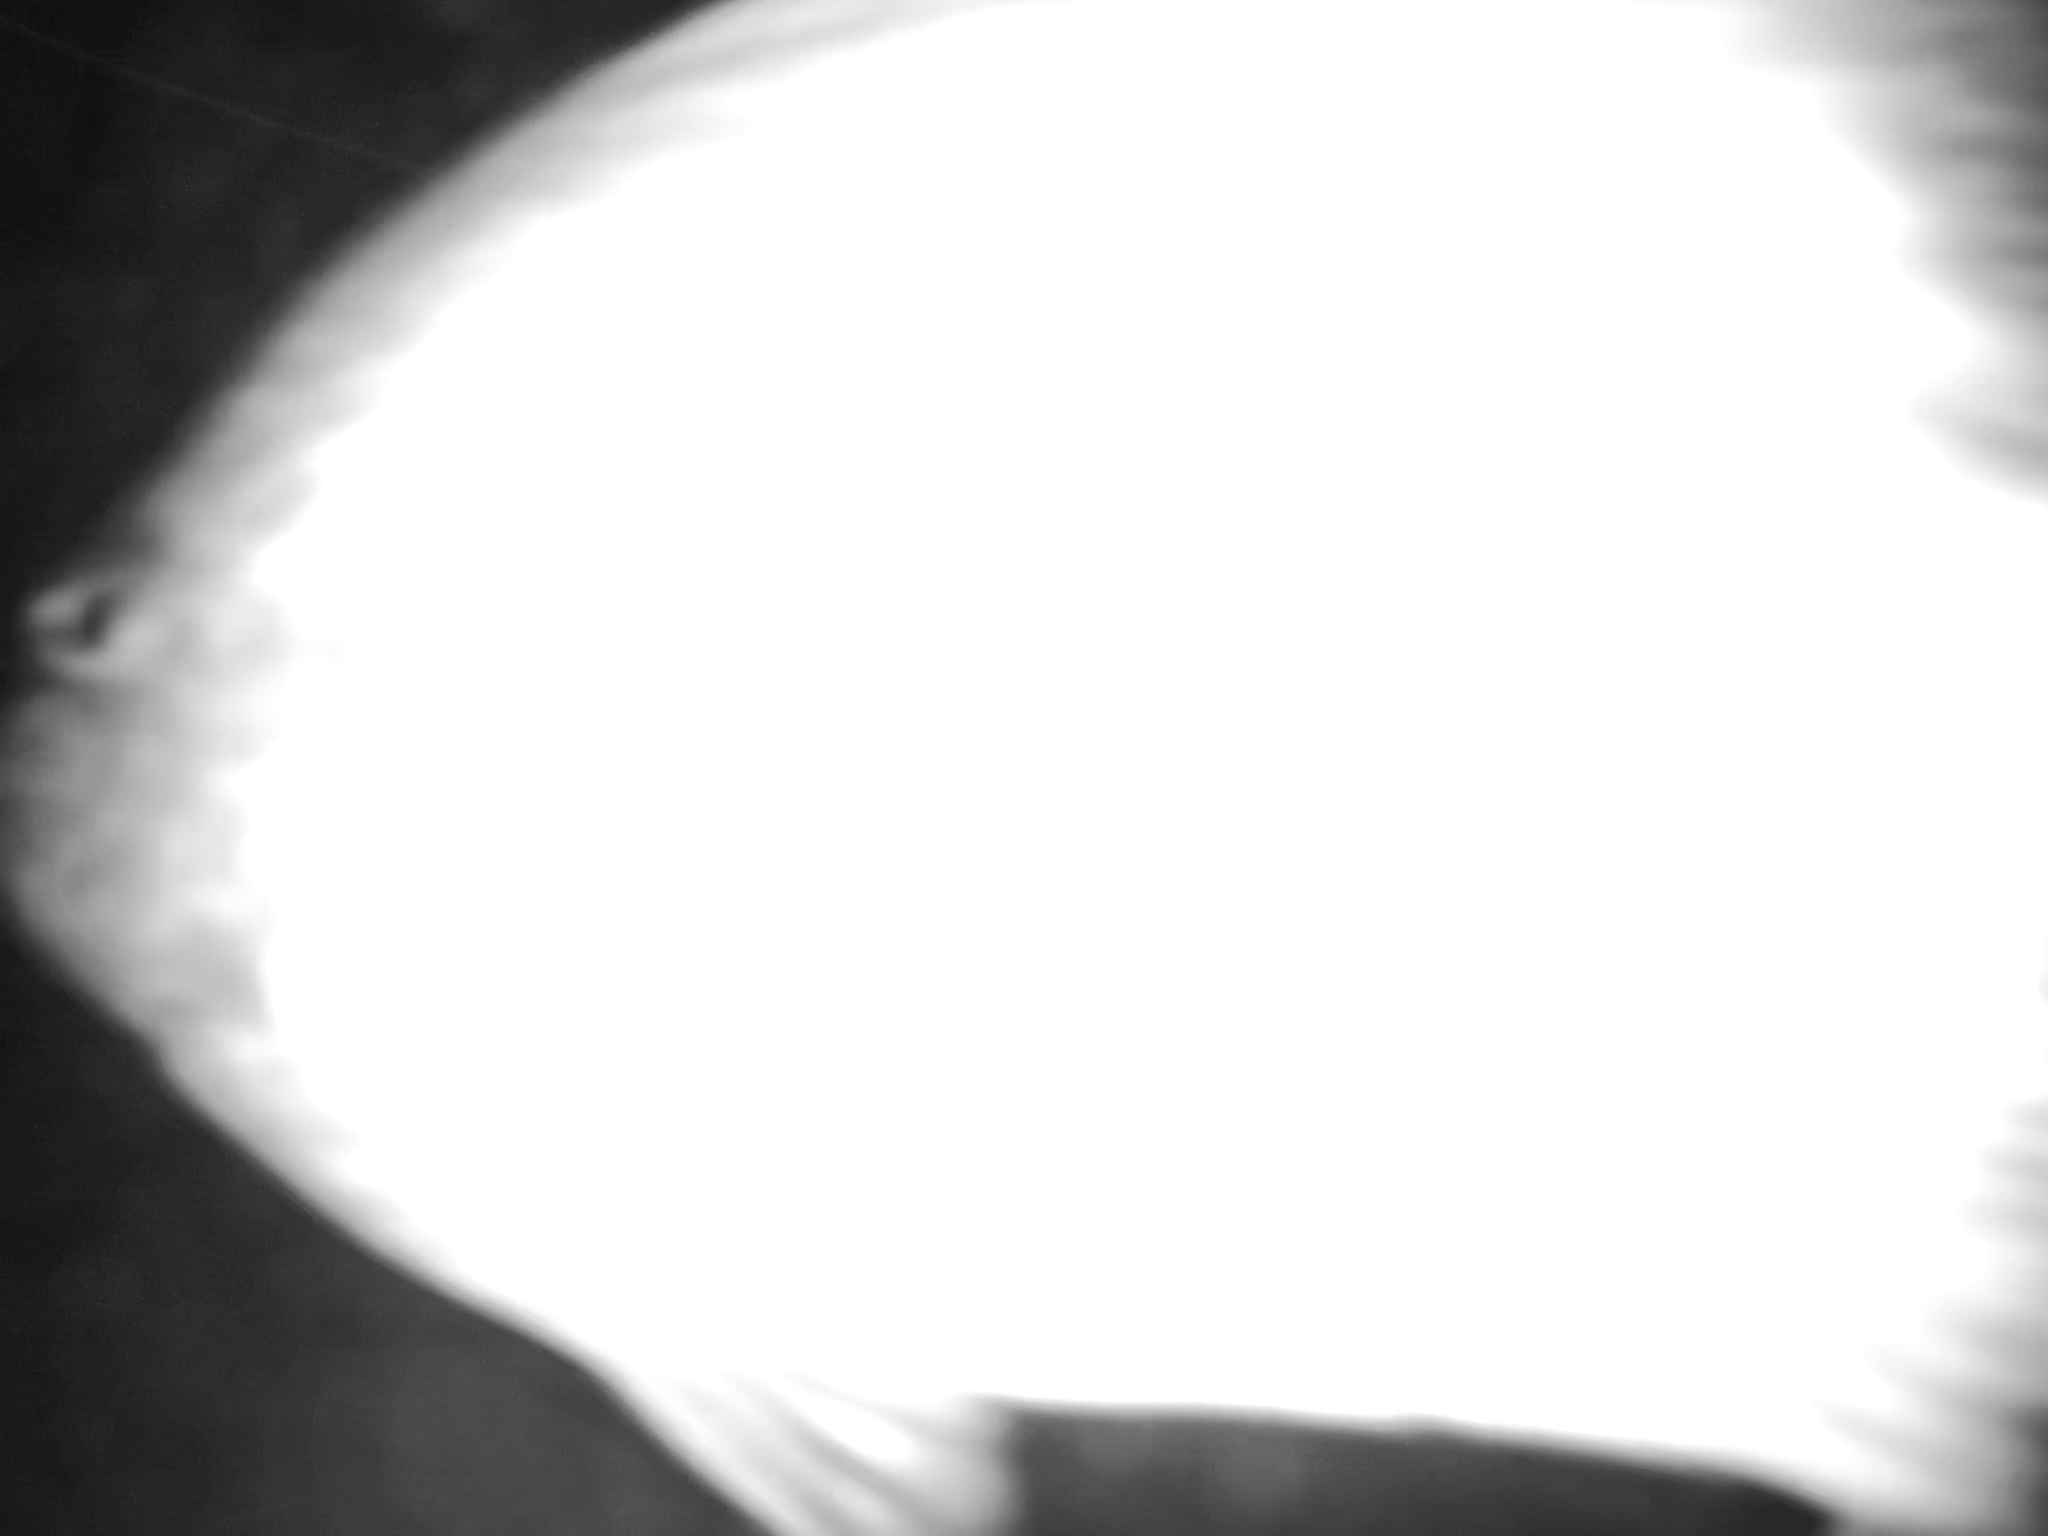fish: (10, 29, 2048, 1521)
